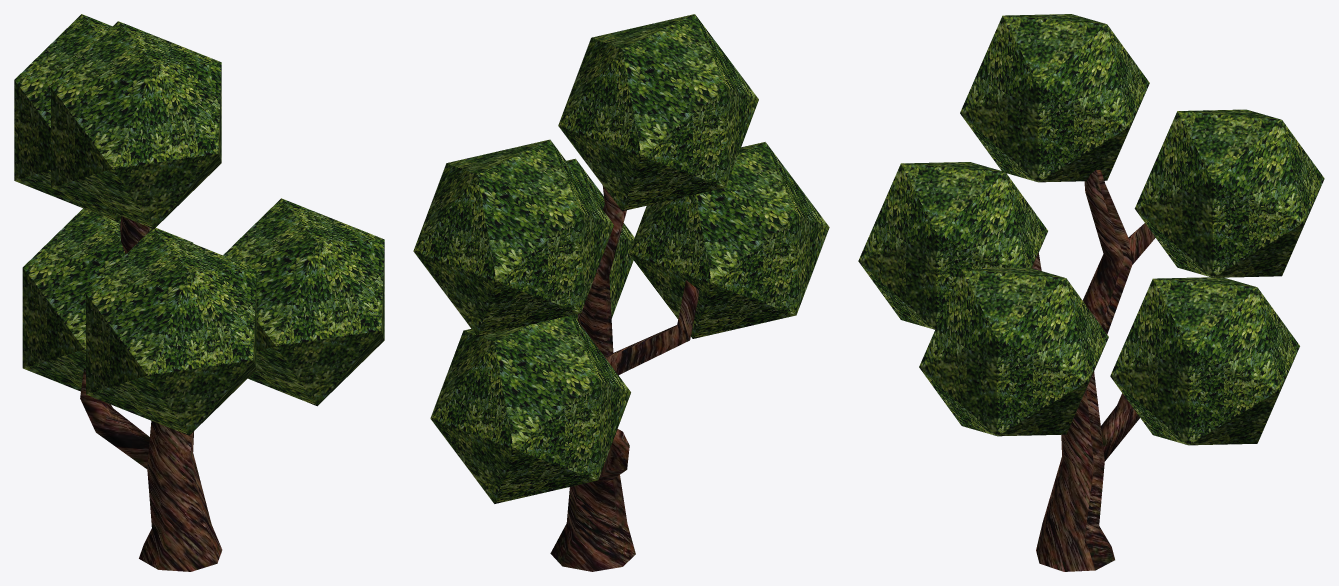
Rendered from tree.obj.
3 views of the same model, side by side, from view 1: azimuth 30°, elevation 25°; view 2: azimuth 150°, elevation 25°; view 3: azimuth 270°, elevation 25° (orthographic). The views are drawn at different scales.
Parts seen in each view (by area): view 1: Icosahedron7, Icosahedron8, Icosahedron9, Icosahedron6, default1, Icosahedron5; view 2: Icosahedron5, Icosahedron7, Icosahedron6, Icosahedron8, default1, Icosahedron9; view 3: Icosahedron5, Icosahedron6, Icosahedron9, Icosahedron7, Icosahedron8, default1.
Part boxes in pixels (box(x1,y1,x2,y2)): Icosahedron7: box(51, 21, 221, 228); Icosahedron8: box(86, 228, 256, 435); Icosahedron9: box(223, 198, 384, 406); Icosahedron6: box(22, 208, 193, 391); default1: box(80, 216, 222, 571); Icosahedron5: box(14, 14, 121, 221); Icosahedron5: box(413, 139, 613, 336); Icosahedron7: box(558, 14, 758, 211); Icosahedron6: box(430, 315, 630, 503); Icosahedron8: box(629, 142, 829, 338); default1: box(550, 185, 698, 571); Icosahedron9: box(566, 158, 634, 320); Icosahedron5: box(1134, 109, 1324, 277); Icosahedron6: box(1110, 277, 1299, 445); Icosahedron9: box(919, 268, 1108, 436); Icosahedron7: box(960, 14, 1149, 182); Icosahedron8: box(858, 162, 1047, 329); default1: box(1032, 170, 1155, 571).
Size of the model in its own units: 5.11 by 8.31 by 6.89.
2 materials, 2 textured.
